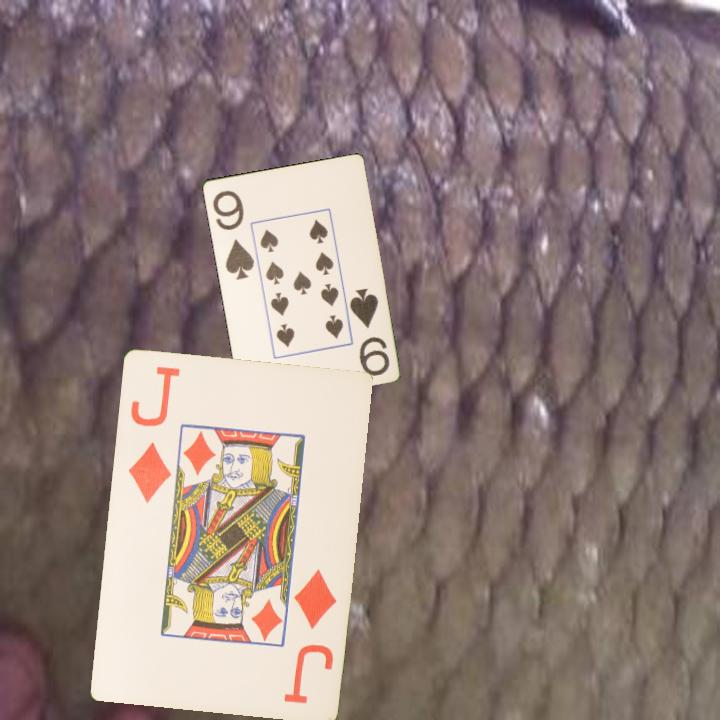9s: (209, 186, 257, 282), (346, 284, 392, 379)
Jd: (279, 564, 340, 706), (124, 362, 183, 505)
